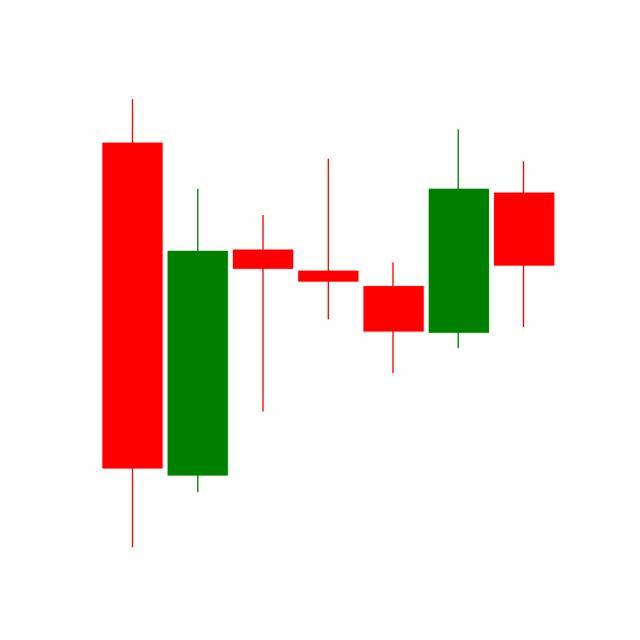Three Line Strike: (230, 126, 492, 416)
